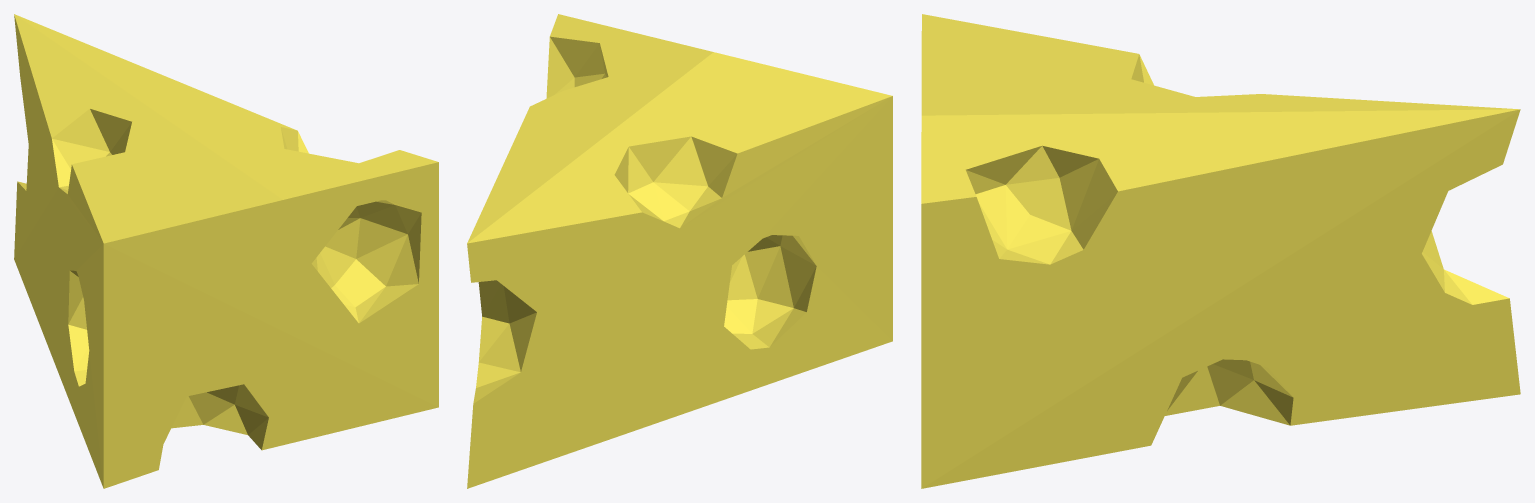
The model's file is Fetta di Formaggio.fbx.
3 renders of one model, left to right at view 1: azimuth 30°, elevation 25°; view 2: azimuth 150°, elevation 25°; view 3: azimuth 270°, elevation 25°, orthographic. The views are drawn at different scales.
Visible parts, largest first — view 1: obj_0; view 2: obj_0; view 3: obj_0.
Boxes of the visible parts, x1,y1,x2,y2 form: obj_0: (14,14,438,488); obj_0: (467,14,892,488); obj_0: (921,14,1520,488).
Bounding box in the file's own units: 15.18 × 10.64 × 20.25.
